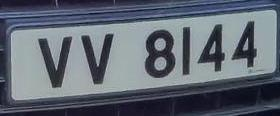1: (176, 20, 196, 79)
4: (227, 12, 262, 77), (194, 15, 229, 79)
8: (138, 24, 177, 83)
V: (33, 32, 79, 91), (76, 29, 120, 88)
